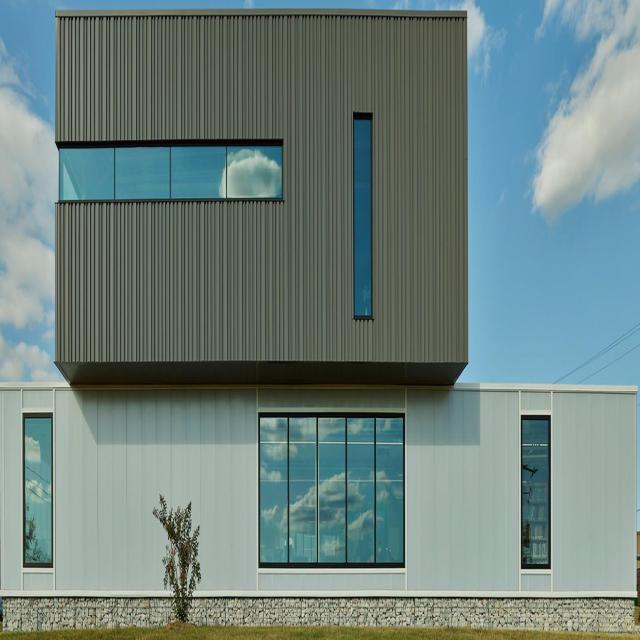window: (259, 406, 405, 559), (58, 138, 282, 191), (22, 400, 54, 558), (520, 402, 551, 560), (353, 102, 373, 311)
